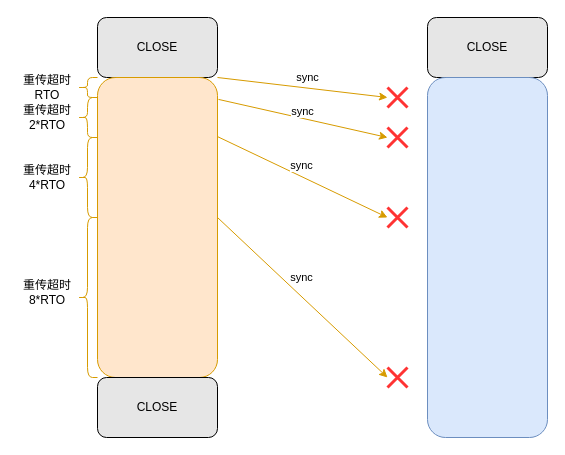
This 565x455 diagram has some shape labels left out. The centre of each missing label's shape, as x and y in pixels:
LISTEN: (x=487, y=257)
SYNC_SENT: (x=157, y=227)
